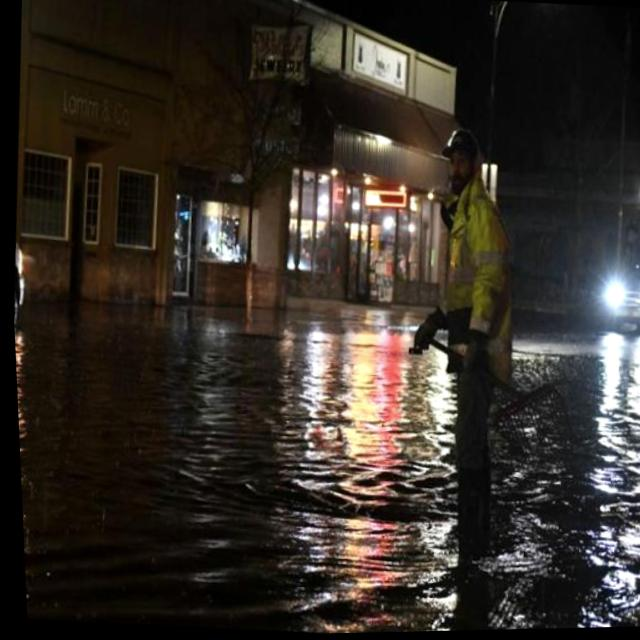rescuer: (373, 98, 565, 601)
